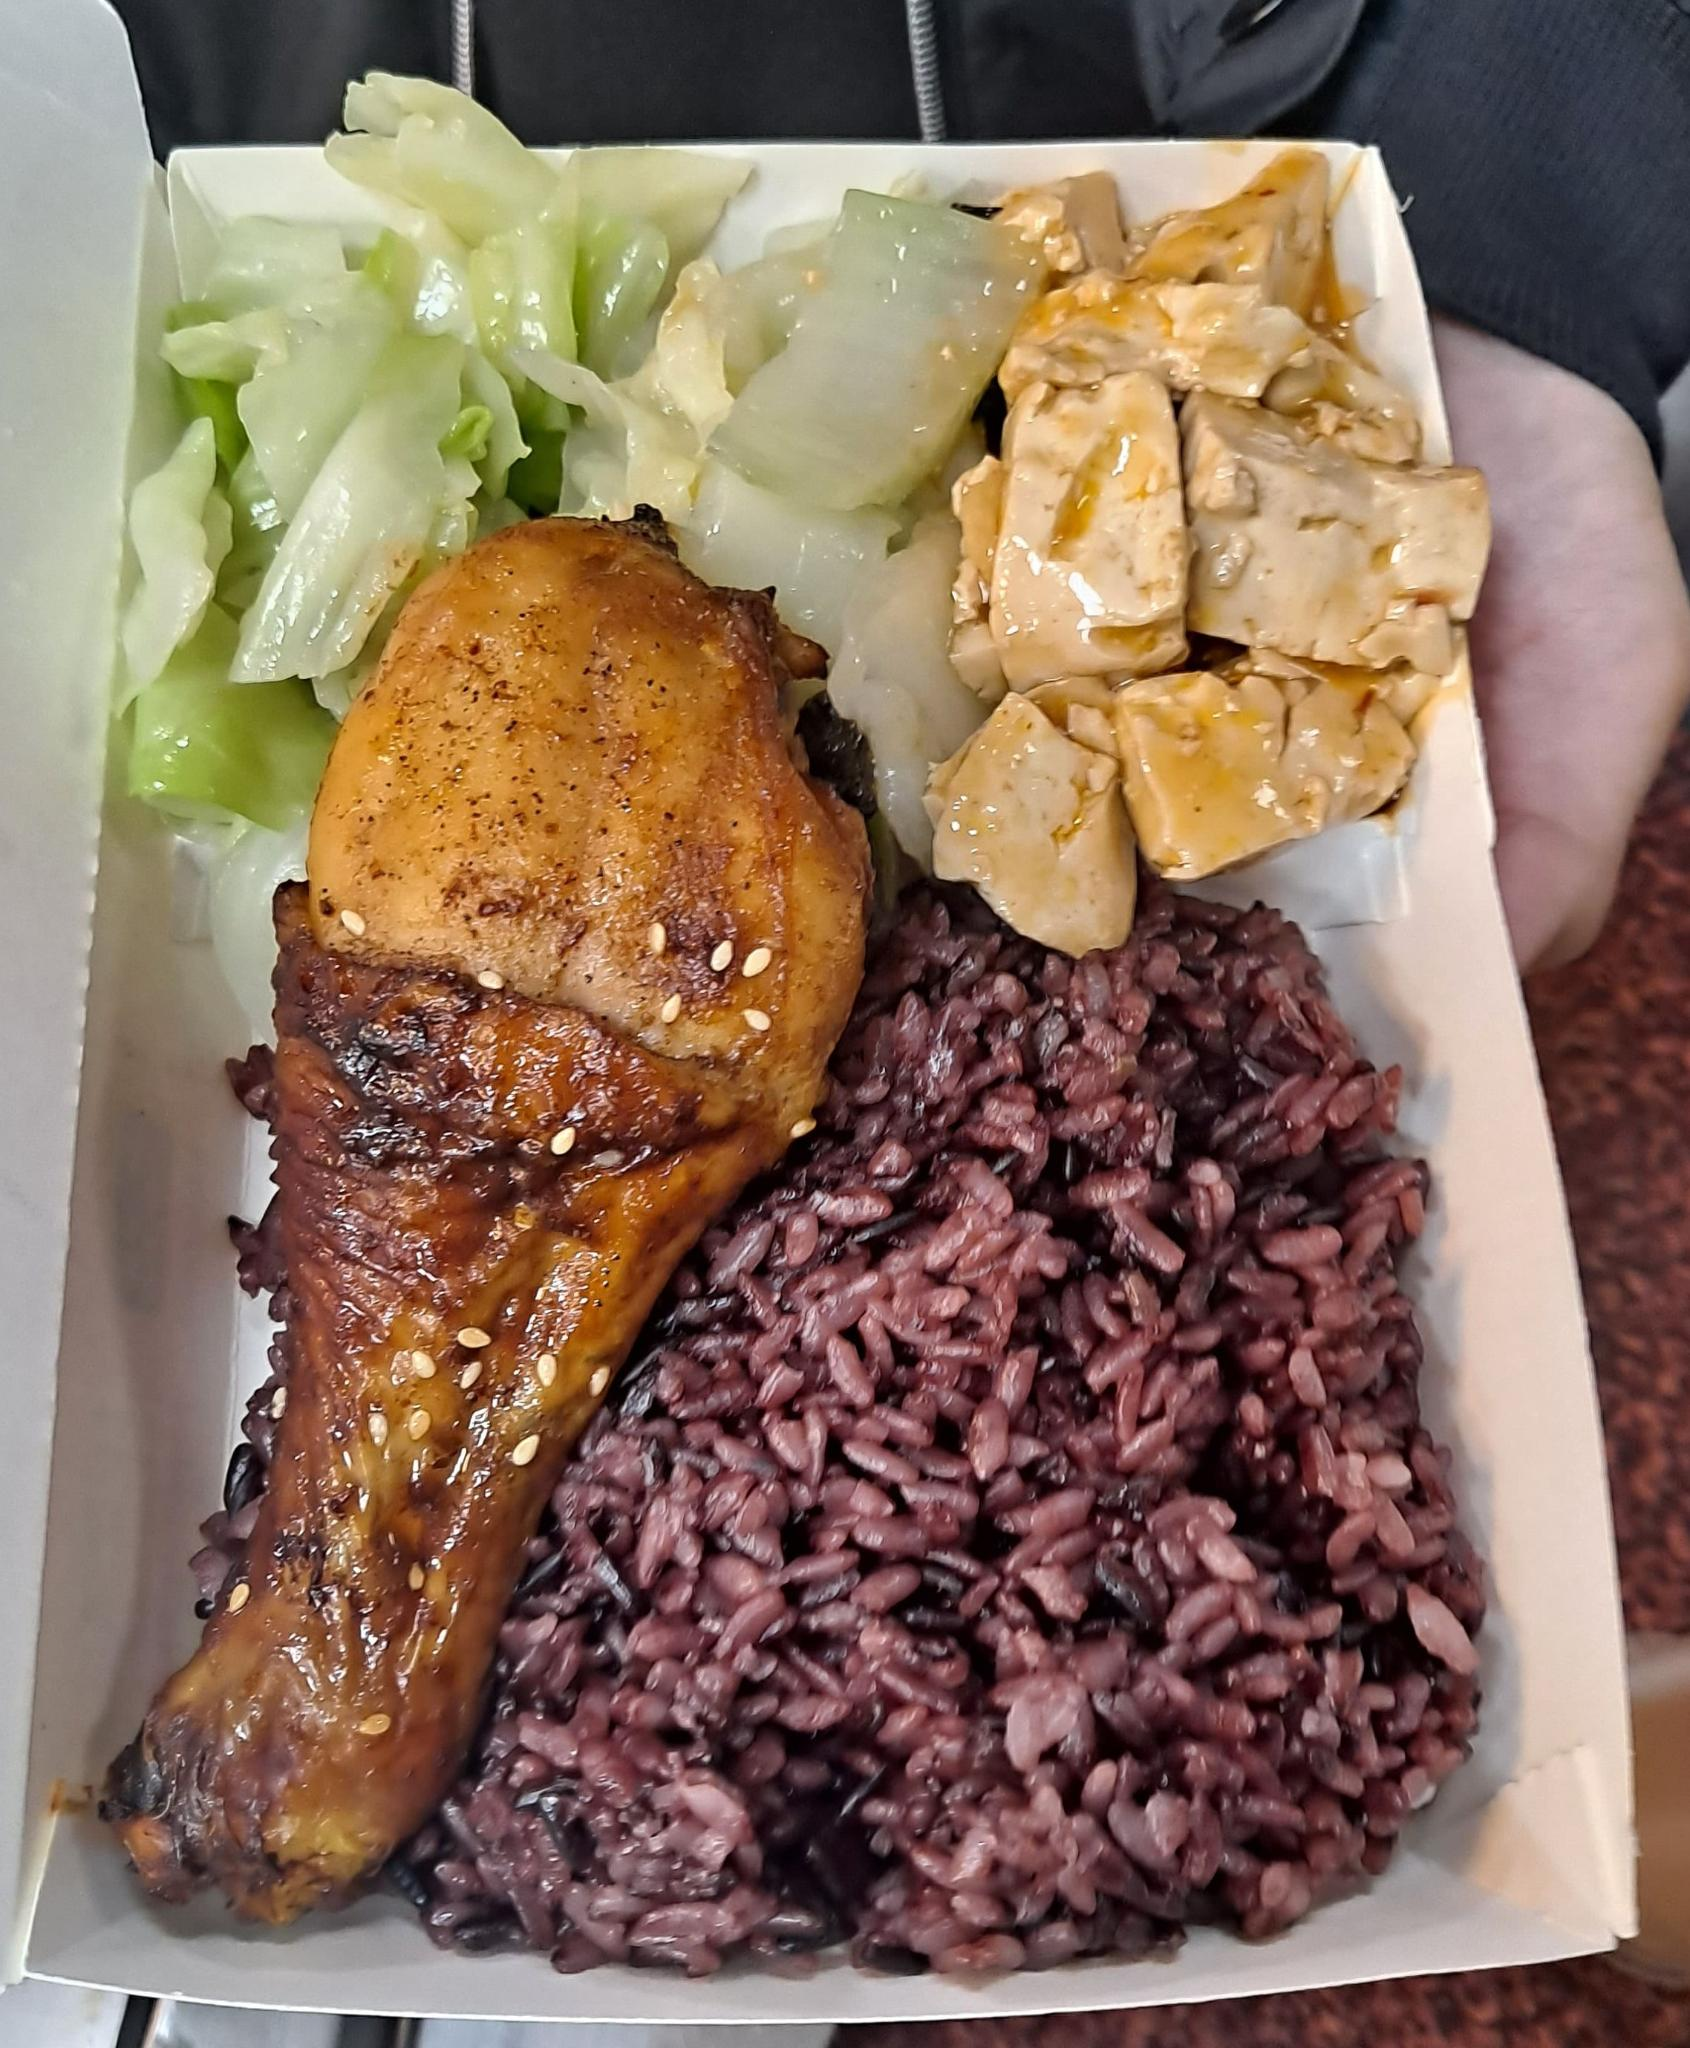big grilled chicken leg: (53, 90, 1651, 2048)
braised fish: (406, 896, 1484, 1982)
braised fish fillet: (117, 75, 690, 823), (956, 162, 1491, 949), (704, 184, 1022, 868)
braised pork: (97, 512, 886, 1934)
